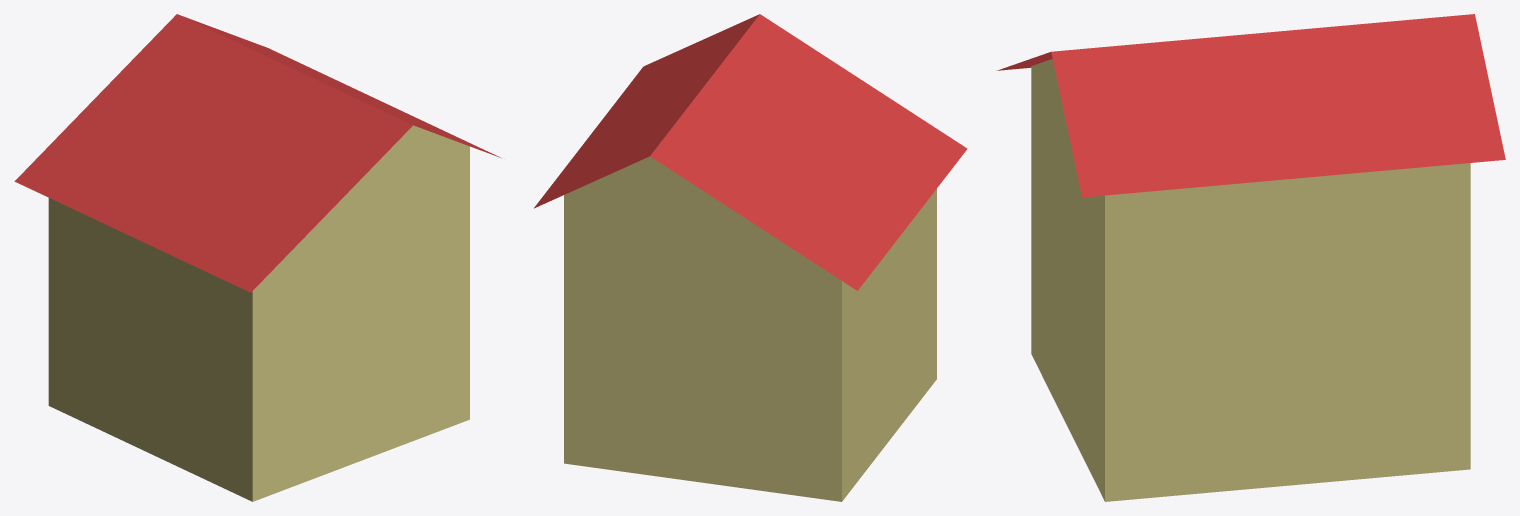
The picture shows the model from 3 angles, left to right: view 1: azimuth 30°, elevation 25°; view 2: azimuth 150°, elevation 25°; view 3: azimuth 270°, elevation 25°; orthographic projection. The views are drawn at different scales.
Size of the model in its own units: 8.35 by 8.56 by 7.47.
